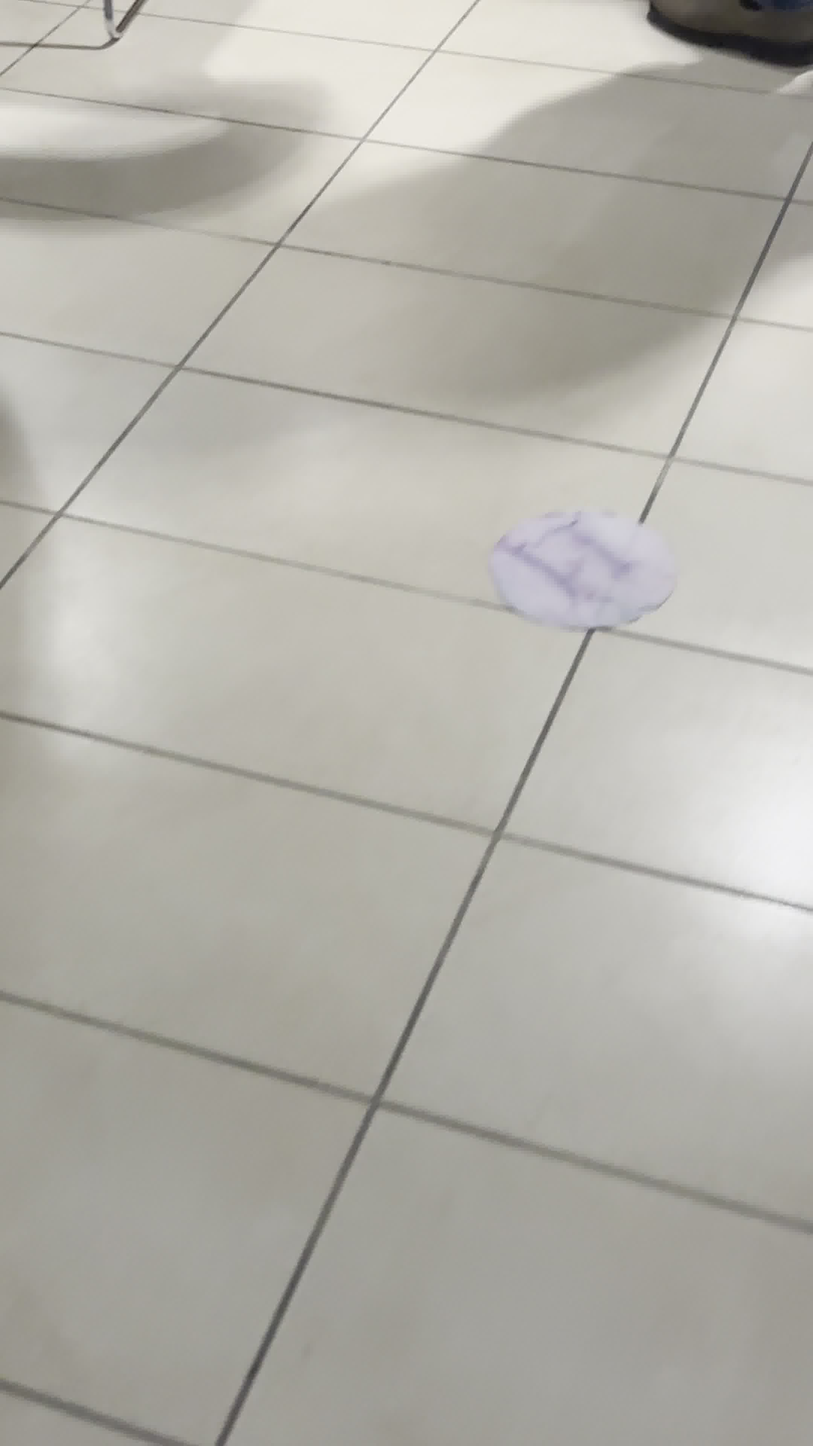Target: (486, 503, 674, 632)
